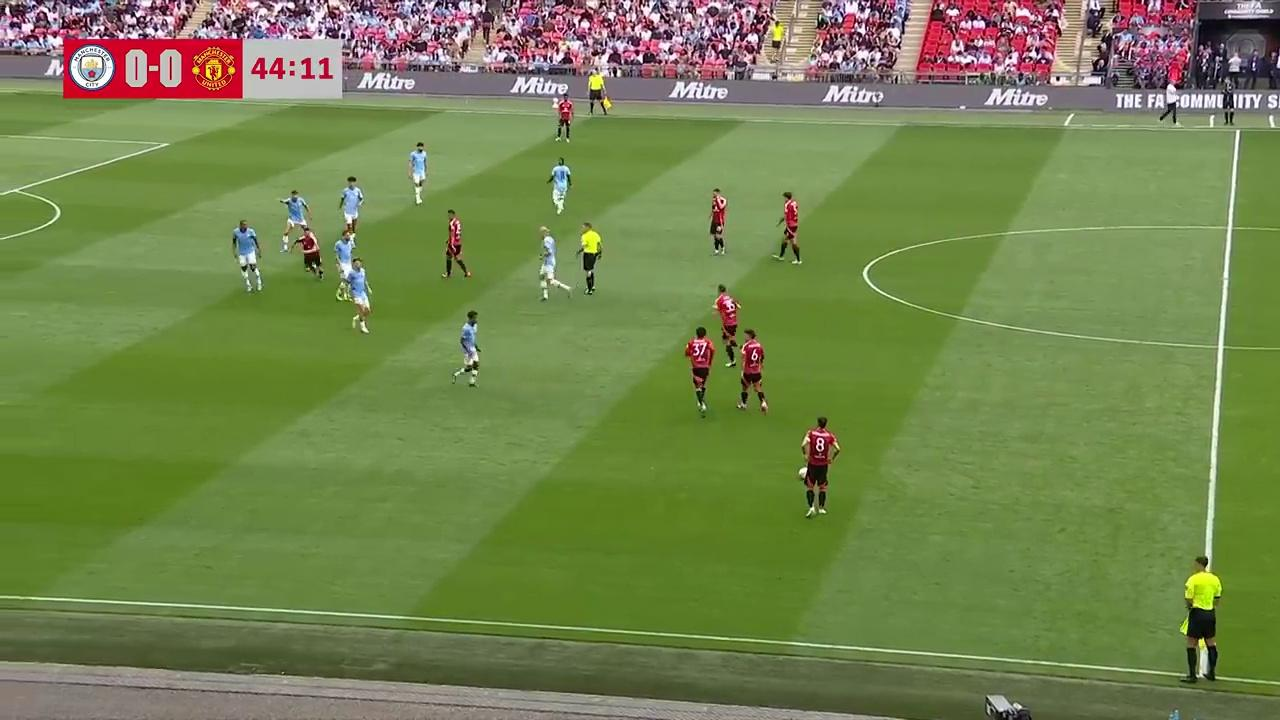ball: (797, 464, 813, 484)
player: (798, 415, 840, 518), (684, 325, 715, 418), (736, 329, 769, 414), (536, 227, 571, 302), (232, 219, 264, 292), (712, 284, 741, 364), (453, 310, 481, 387), (441, 209, 471, 280), (278, 189, 312, 250), (347, 255, 372, 334), (775, 191, 802, 264), (333, 229, 357, 301), (338, 175, 364, 239), (546, 156, 573, 215), (296, 224, 324, 279), (407, 141, 428, 204), (708, 187, 727, 255), (554, 93, 574, 142)
referee: (1180, 553, 1222, 684), (575, 220, 603, 295), (587, 68, 610, 117)
